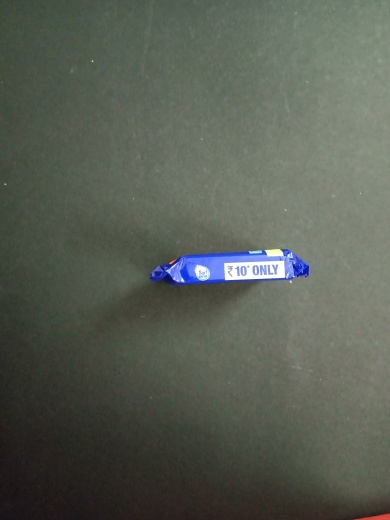rin: (146, 253, 315, 286)
